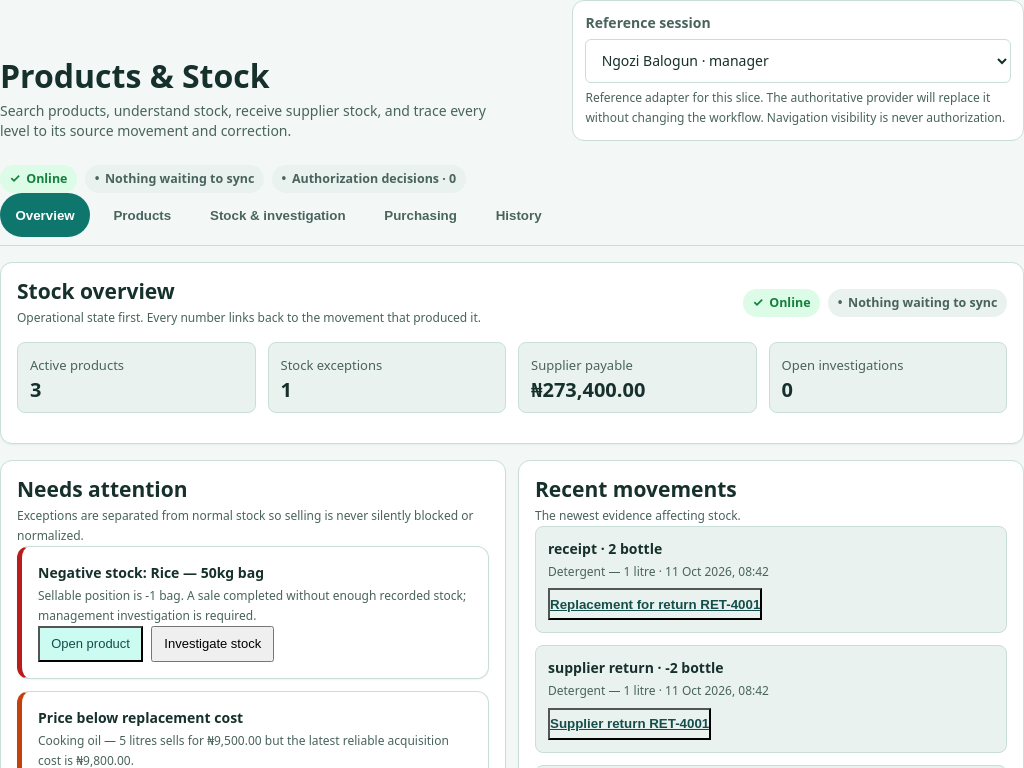
Test: inventory and purchasing workspace › traces history from movement to source and resulting state
Click the tab "History": (519, 215) x1=480 y1=193 x2=557 y2=237
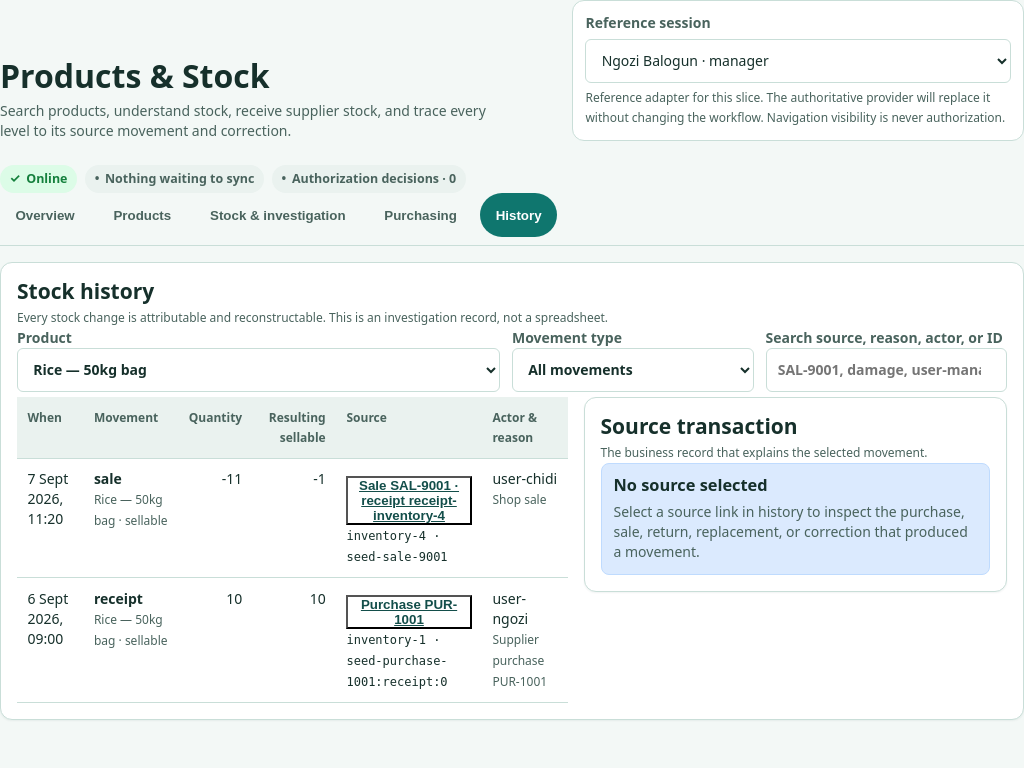
In the search field labelled "Search source, reason, actor, or ID": (886, 370) x1=766 y1=348 x2=1007 y2=392, type "SAL-9001"
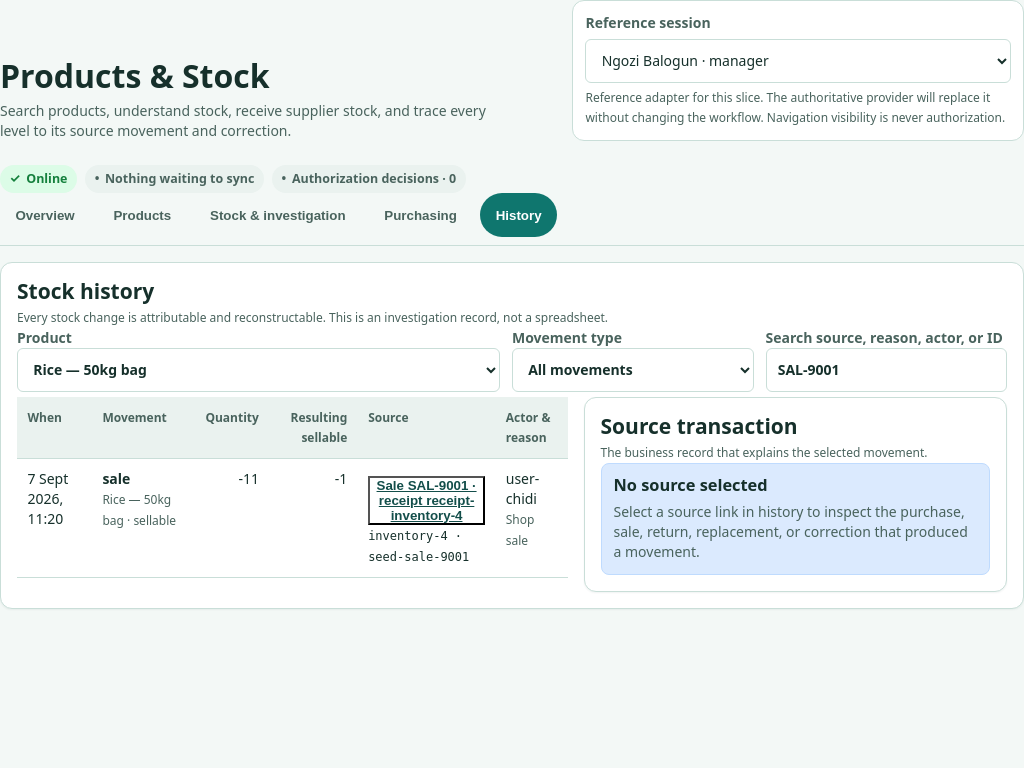
Expected: the text "-11" is shown, x1=195 y1=458 x2=269 y2=578
Now the text "sale" is shown, box x1=102 y1=469 x2=130 y2=488
Now the text "user-chidi" is shown, box x1=506 y1=469 x2=539 y2=508
Click the button "Sale SAL-9001 · receipt receipt-inventory-4": (426, 500) x1=368 y1=476 x2=485 y2=525
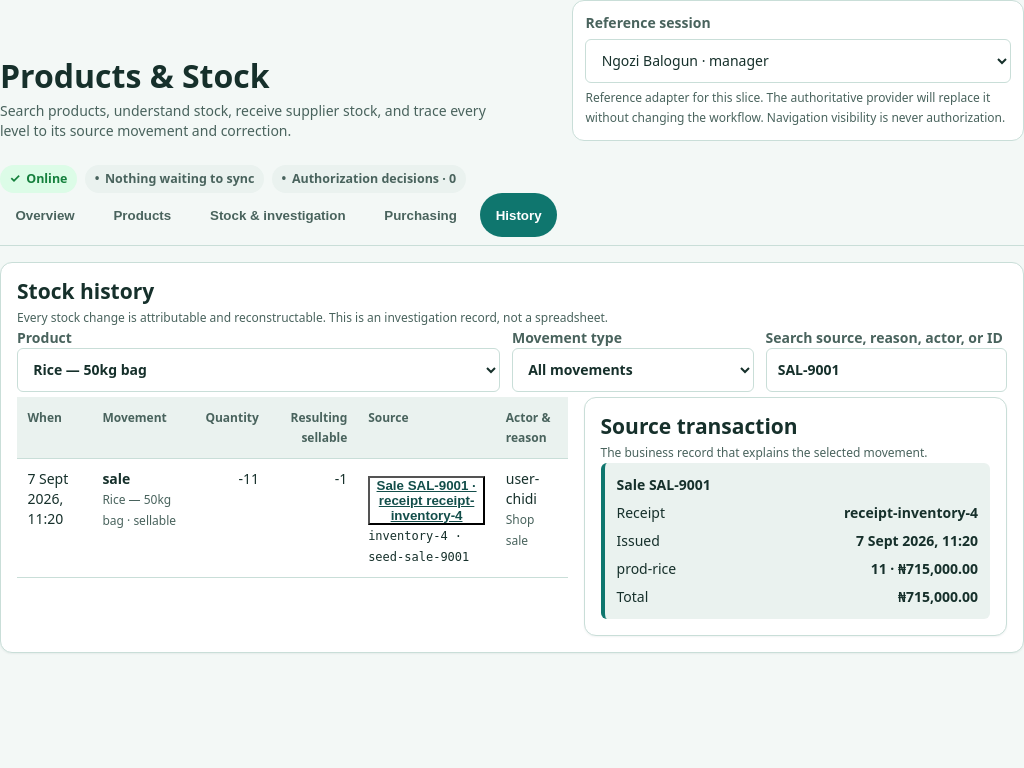
Now the heading "Source transaction" is shown, box x1=600 y1=412 x2=798 y2=440
Now the text "receipt-inventory-4" is shown, box x1=844 y1=502 x2=978 y2=522
Now the text "₦715,000.00" is shown, box x1=898 y1=586 x2=978 y2=606
